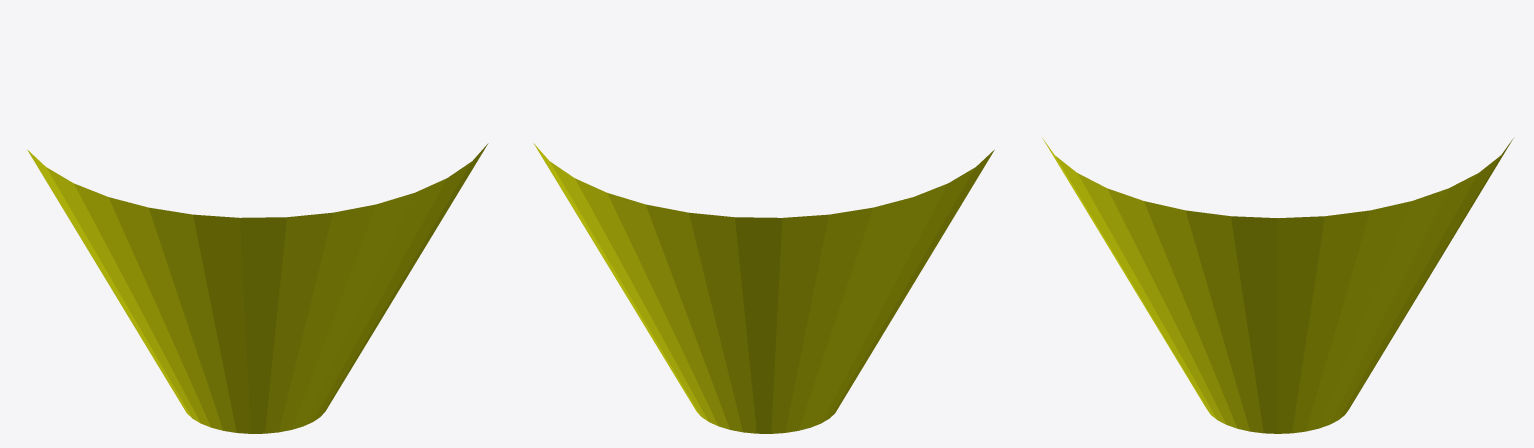
File: I_Output_full.gltf
3 views of the same model, side by side, from view 1: azimuth 30°, elevation 25°; view 2: azimuth 150°, elevation 25°; view 3: azimuth 270°, elevation 25° (orthographic).
Parts seen in each view (by area): view 1: I_Output_full; view 2: I_Output_full; view 3: I_Output_full.
Part boxes in pixels (<box>): I_Output_full: <box>27,143,488,433</box>; I_Output_full: <box>533,143,994,433</box>; I_Output_full: <box>1042,138,1513,433</box>.
Bounding box in the file's own units: 3.7 × 2.42 × 3.7.
